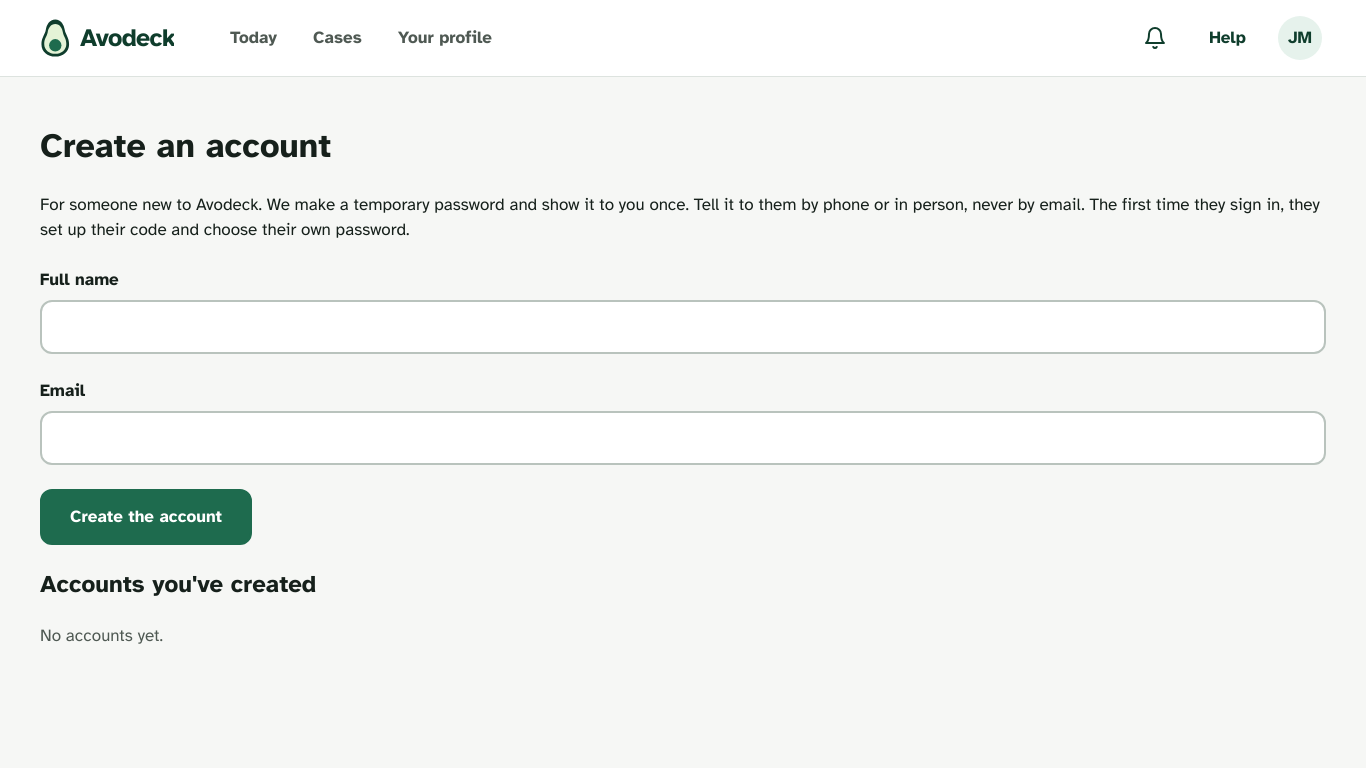
Test case: an email the sign-in service will not take asks to check it
The width and height of the screenshot is (1366, 768).
Type "Dr New Expert" into the field labelled "Full name" at (683, 327), box [40,300,1326,354]
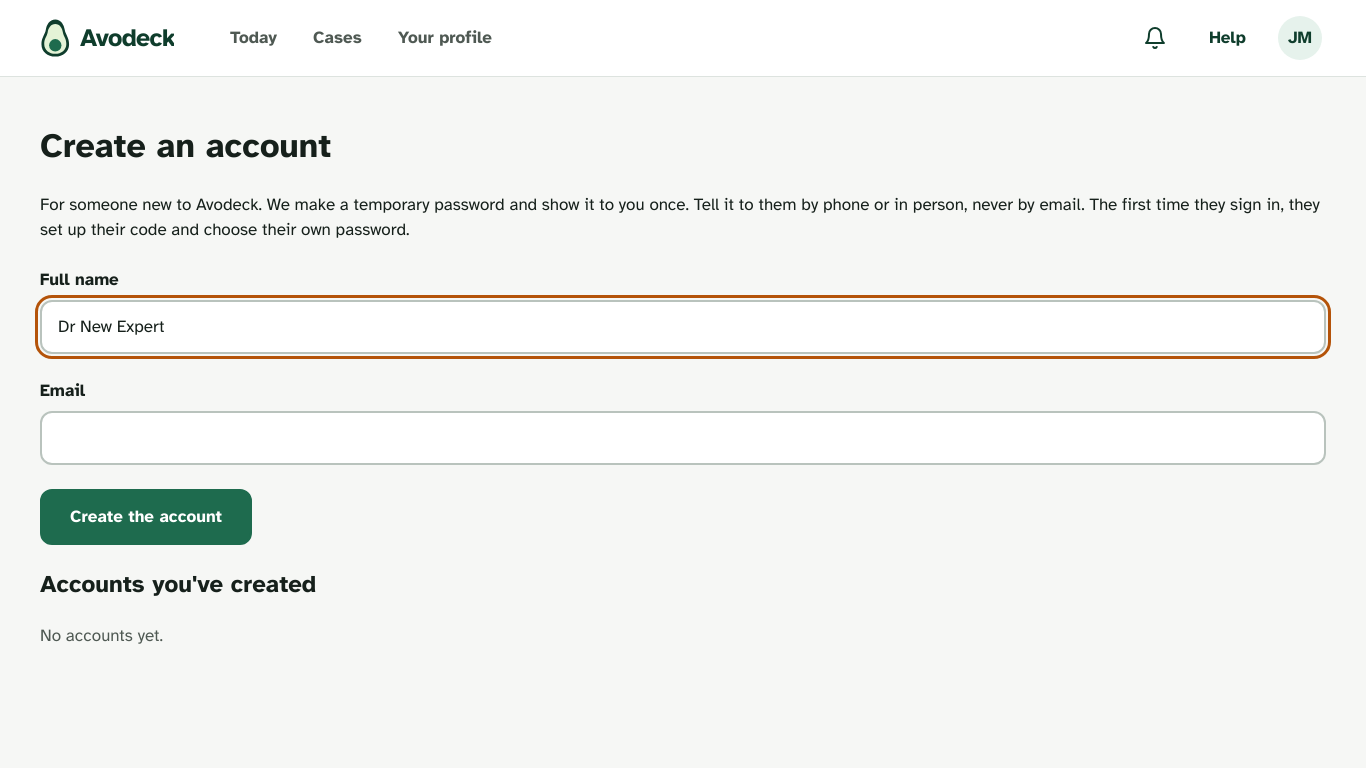
Type "new.expert@example.test" into the field labelled "Email" at (683, 438), box [40,411,1326,464]
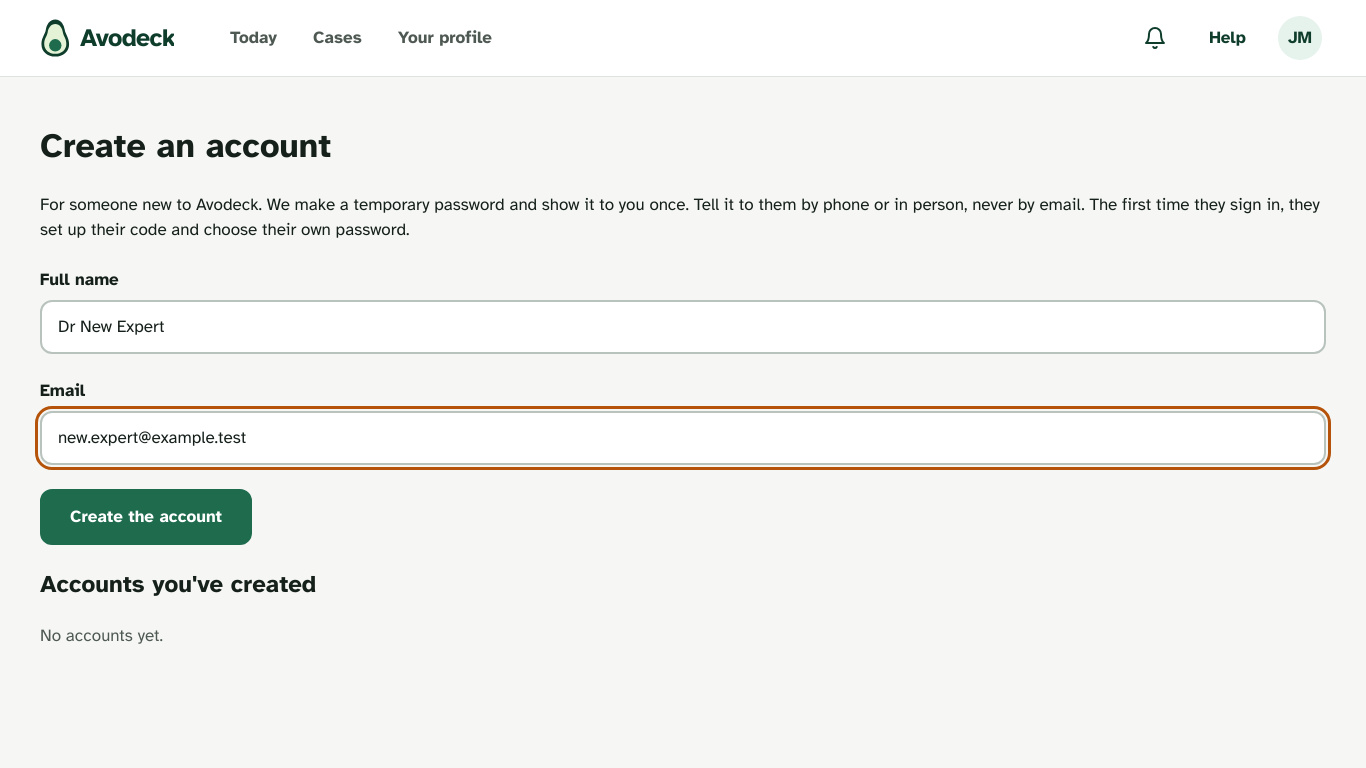
Click the button "Create the account" at (146, 516), box [40,488,252,544]
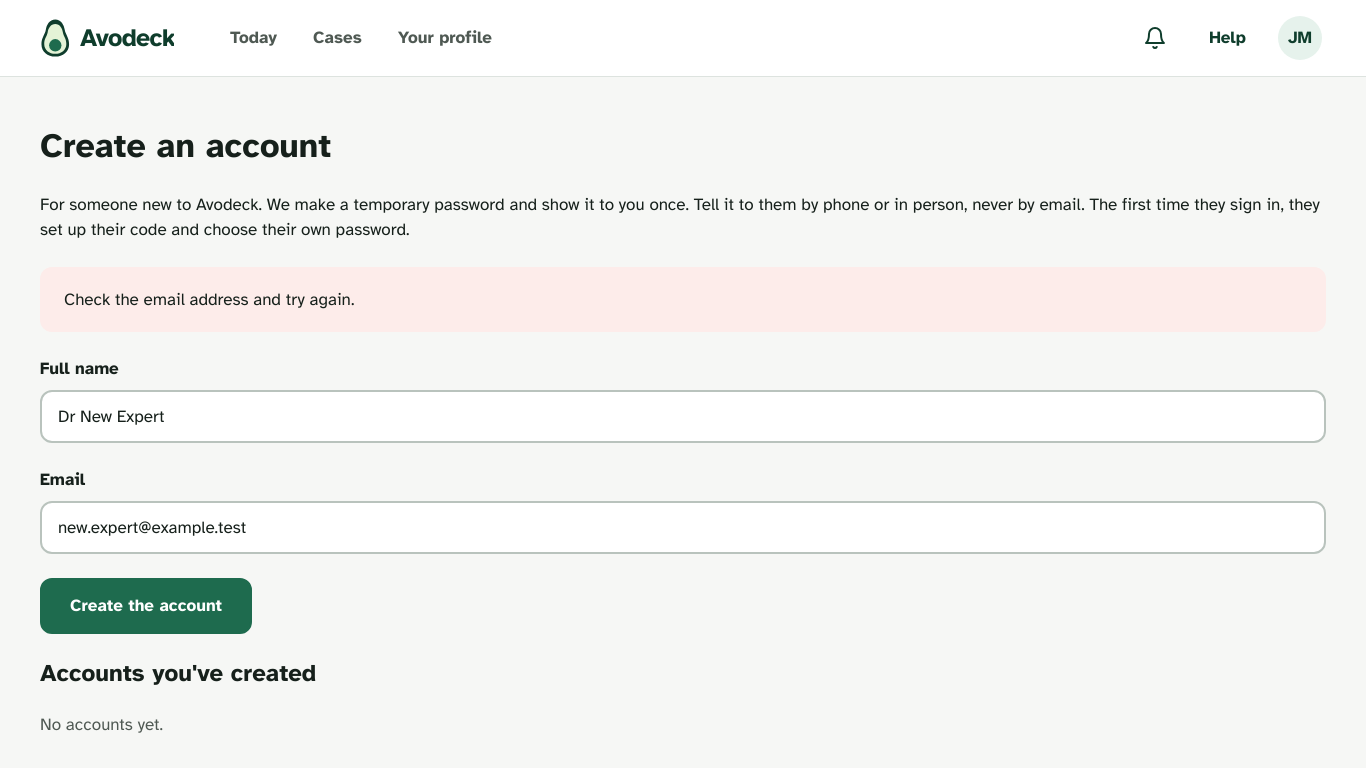
Expected: the text "Check the email address and try again." is shown, [64,288,354,310]
